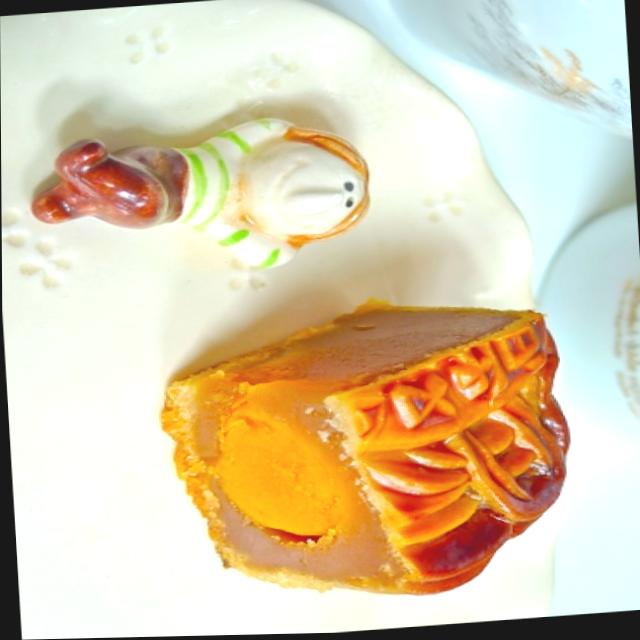蛋糕甜品: (173, 280, 589, 611)
